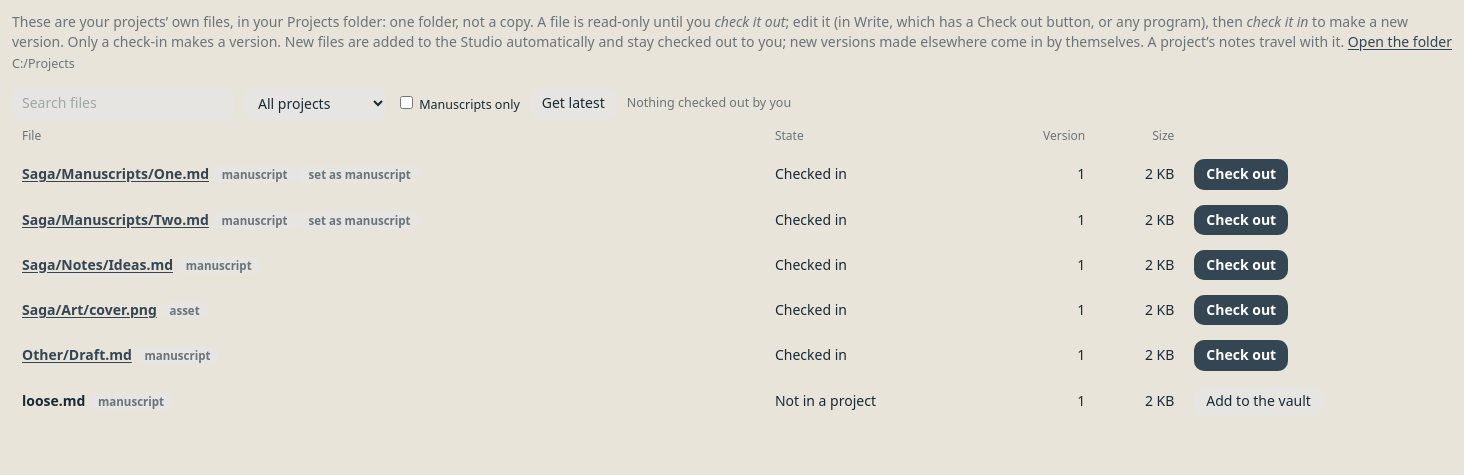
Test: the right-click menu of a file › sets a file as a manuscript, through the project’s own setting, and shows it afterwards
Right-click the row "Saga/Notes/Ideas.md manuscript Checked in 1 2 KB Check out" at (732, 265), box x1=12 y1=242 x2=1452 y2=288
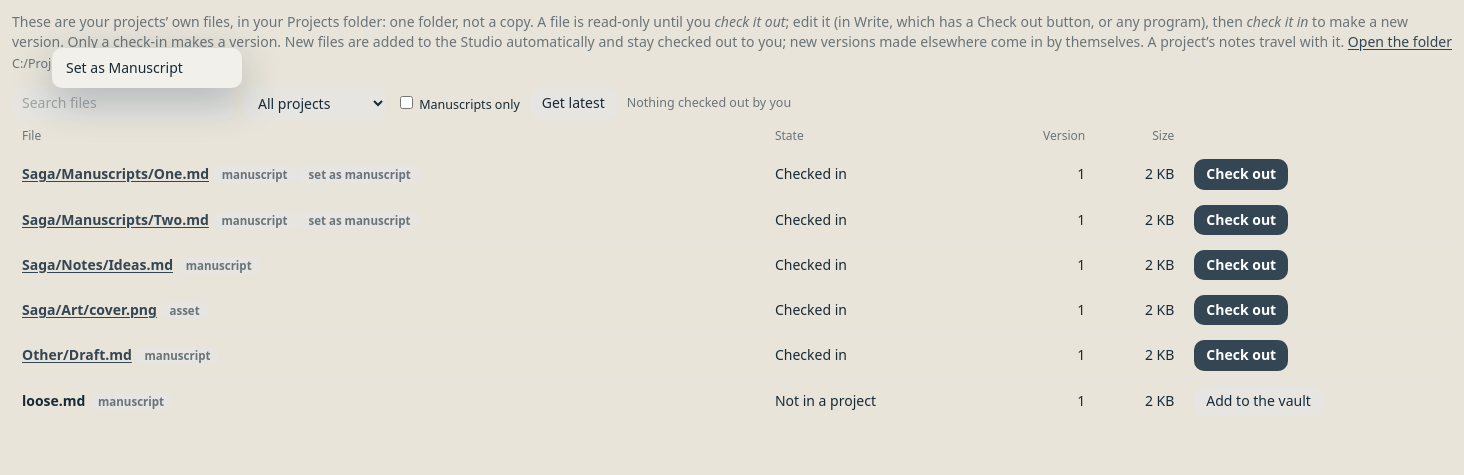
expect the menu item "Set as Manuscript" is shown: met
Click the menu item "Set as Manuscript" at (147, 68), box x1=56 y1=52 x2=238 y2=84
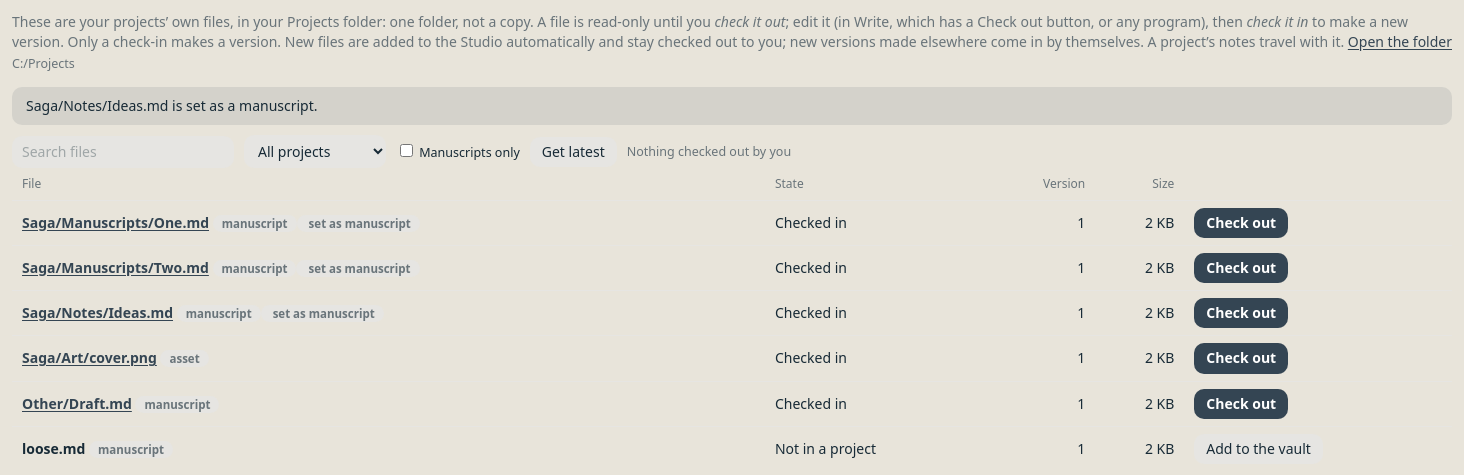
expect the menu is gone: met
expect the text "Saga/Notes/Ideas.md is set as a manuscript." is shown: met, box x1=12 y1=87 x2=1452 y2=125
expect the number of elements with class "chip" is 3: met, box x1=297 y1=215 x2=420 y2=232; x1=296 y1=260 x2=420 y2=277; x1=261 y1=305 x2=384 y2=322
